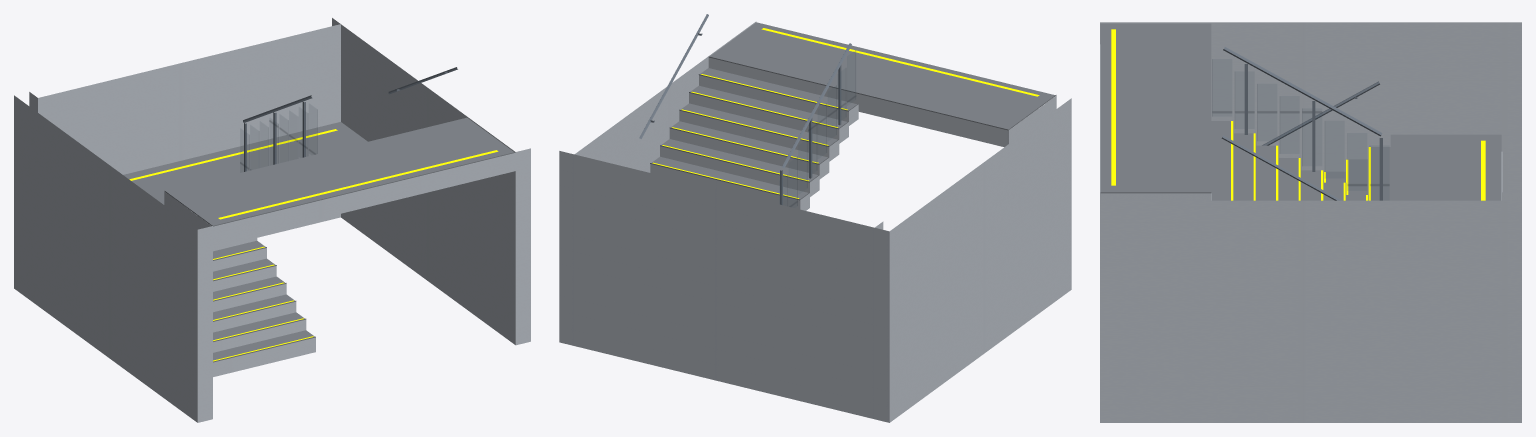
File: v5_upper.glb
The picture shows the model from 3 angles, left to right: view 1: azimuth 30°, elevation 25°; view 2: azimuth 150°, elevation 25°; view 3: azimuth 270°, elevation 25°; orthographic projection. The views are drawn at different scales.
Visible parts, largest first — view 1: Core_Walls, Top_Landing_Slate, Top_Landing, Flight1_Modules, Mid_Landing_Slate, Treads_Slate, Court_Line_Landing, Nosing_Emergency, Guard_Posts, Guard_Glass_Centre; view 2: Core_Walls, Top_Landing_Slate, Flight2_Modules, Treads_Slate, Top_Landing, Nosing_Emergency, Court_Line_Landing, Guard_Posts, Guard_Glass_Centre, Guard_Cap_Rail, Handrail_Wall; view 3: Core_Walls, Top_Landing_Slate, Treads_Slate, Mid_Landing_Slate, Nosing_Emergency, Court_Line_Landing, Handrail_Wall, Top_Landing, Guard_Cap_Rail, Guard_Posts, Guard_Glass_Centre.
Part boxes in pixels (x1=…): Core_Walls: x1=14, y1=18, x2=530, y2=422; Top_Landing_Slate: x1=164, y1=117, x2=515, y2=226; Top_Landing: x1=164, y1=153, x2=515, y2=244; Flight1_Modules: x1=213, y1=234, x2=315, y2=376; Mid_Landing_Slate: x1=123, y1=122, x2=367, y2=204; Treads_Slate: x1=213, y1=240, x2=315, y2=362; Court_Line_Landing: x1=129, y1=129, x2=498, y2=219; Nosing_Emergency: x1=213, y1=246, x2=313, y2=361; Guard_Posts: x1=244, y1=102, x2=305, y2=171; Guard_Glass_Centre: x1=240, y1=110, x2=317, y2=169; Core_Walls: x1=559, y1=21, x2=1071, y2=422; Top_Landing_Slate: x1=708, y1=22, x2=1056, y2=130; Flight2_Modules: x1=650, y1=75, x2=858, y2=210; Treads_Slate: x1=650, y1=68, x2=858, y2=200; Top_Landing: x1=708, y1=57, x2=1056, y2=147; Nosing_Emergency: x1=652, y1=74, x2=847, y2=198; Court_Line_Landing: x1=761, y1=28, x2=1039, y2=96; Guard_Posts: x1=780, y1=65, x2=841, y2=205; Guard_Glass_Centre: x1=787, y1=50, x2=855, y2=206; Guard_Cap_Rail: x1=782, y1=43, x2=851, y2=168; Handrail_Wall: x1=639, y1=14, x2=708, y2=138; Core_Walls: x1=1100, y1=22, x2=1521, y2=422; Top_Landing_Slate: x1=1100, y1=23, x2=1211, y2=193; Treads_Slate: x1=1211, y1=121, x2=1390, y2=200; Mid_Landing_Slate: x1=1390, y1=134, x2=1501, y2=200; Nosing_Emergency: x1=1231, y1=121, x2=1370, y2=200; Court_Line_Landing: x1=1111, y1=29, x2=1485, y2=200; Handrail_Wall: x1=1221, y1=81, x2=1379, y2=200; Top_Landing: x1=1100, y1=44, x2=1210, y2=200; Guard_Cap_Rail: x1=1223, y1=47, x2=1382, y2=136; Guard_Posts: x1=1244, y1=64, x2=1382, y2=200; Guard_Glass_Centre: x1=1212, y1=59, x2=1389, y2=199.
Size of what is drawn, in the model's own units: 5.5 by 3.98 by 5.25.
Materials: 5 (3 with a texture image).
